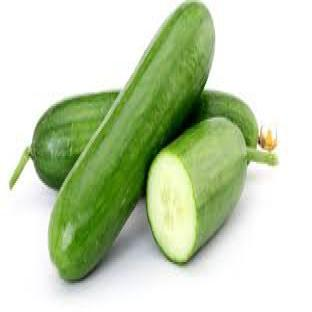Cucumber: (49, 2, 214, 279), (147, 118, 276, 263), (10, 93, 118, 188), (193, 91, 258, 146)
